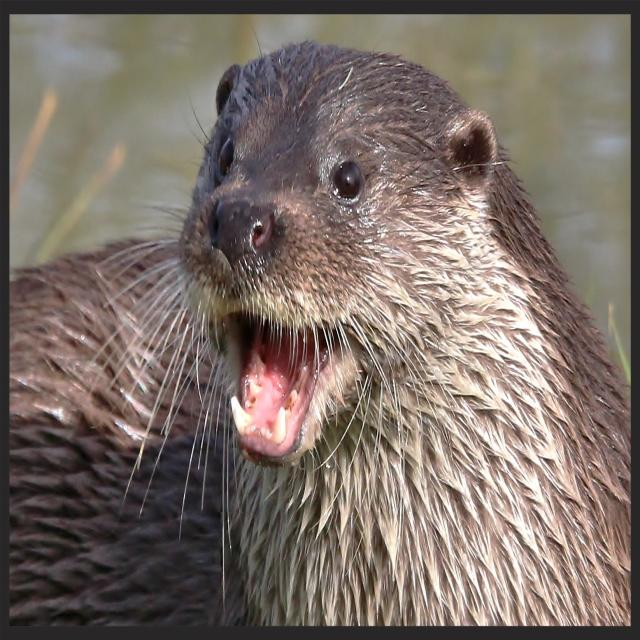otter: (184, 42, 631, 627)
